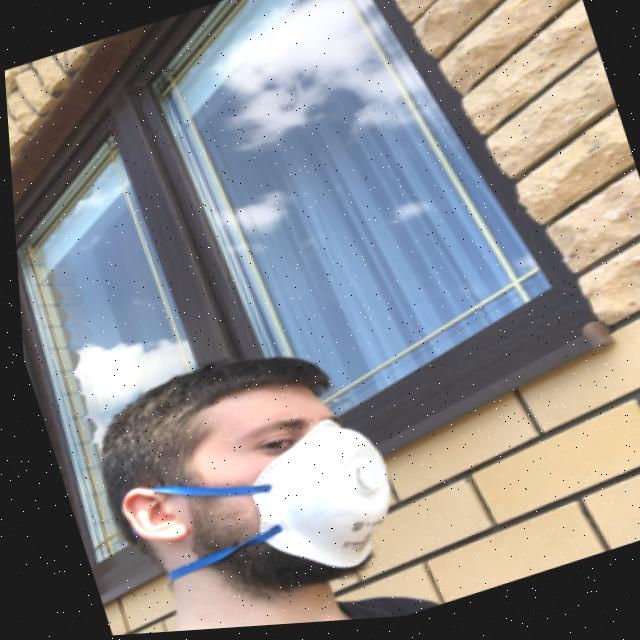Mask: (102, 399, 412, 636)
